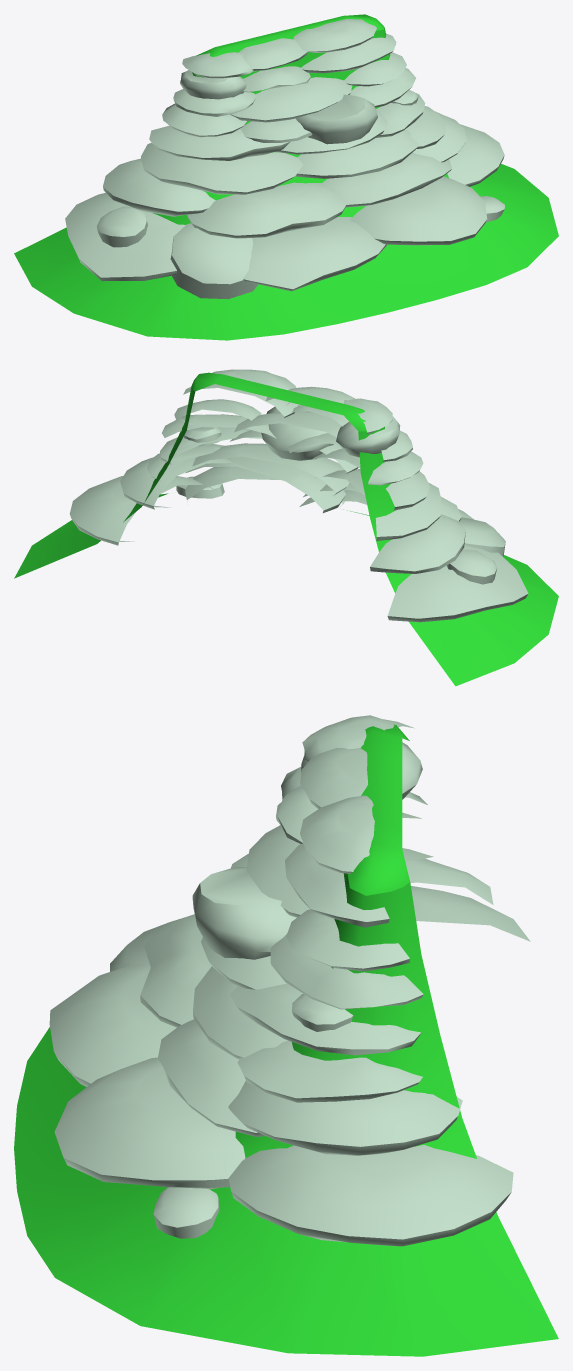
Rendered from Biome_1_Water_Edge_1.glb.
3 views of the same model, one above another, from view 1: azimuth 30°, elevation 25°; view 2: azimuth 150°, elevation 25°; view 3: azimuth 270°, elevation 25° (orthographic). The views are drawn at different scales.
Parts seen in each view (by area): view 1: Biome_1_Water_Edge_1; view 2: Biome_1_Water_Edge_1; view 3: Biome_1_Water_Edge_1.
Boxes of the visible parts, x1=… form: Biome_1_Water_Edge_1: x1=14, y1=14, x2=558, y2=340; Biome_1_Water_Edge_1: x1=14, y1=369, x2=558, y2=686; Biome_1_Water_Edge_1: x1=14, y1=715, x2=558, y2=1356.
Bounding box in the file's own units: 3.11 × 1.27 × 1.72.
